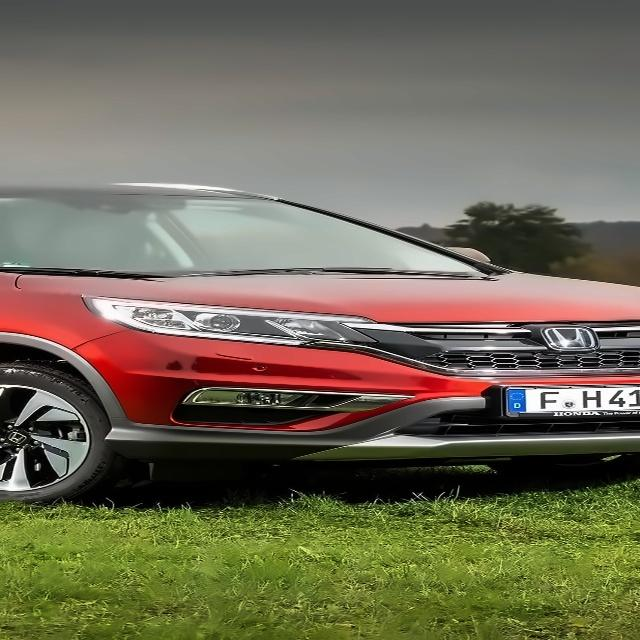Car hood: (15, 267, 640, 329)
Front bumper: (57, 331, 640, 472)
Headlight - -R-: (81, 295, 377, 355)
